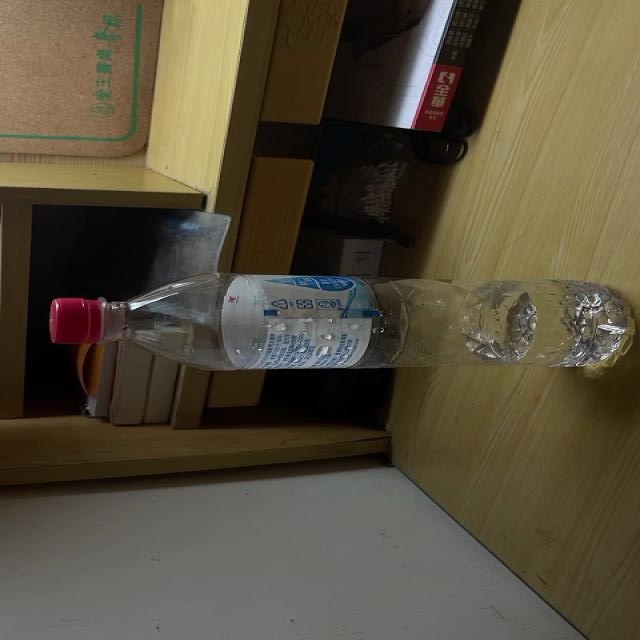Water: (46, 272, 638, 371)
